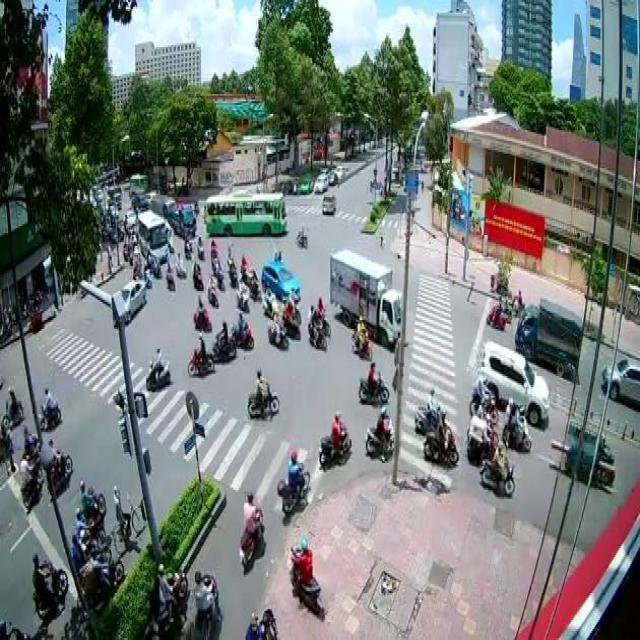bicycle: (111, 481, 145, 555)
bus: (203, 193, 286, 237), (136, 206, 169, 264)
car: (482, 338, 546, 430), (601, 351, 640, 403), (260, 260, 300, 306), (115, 278, 146, 322), (320, 190, 334, 215)
motorcycle: (564, 414, 614, 486), (149, 559, 186, 638), (30, 552, 69, 620), (288, 535, 321, 615), (277, 448, 310, 517), (317, 409, 352, 470), (238, 488, 263, 573), (423, 407, 458, 466), (480, 438, 515, 497), (363, 403, 395, 461), (193, 566, 218, 640), (245, 367, 278, 419), (466, 374, 499, 425), (502, 394, 530, 452), (17, 450, 43, 512), (413, 385, 444, 436), (357, 358, 389, 401), (186, 329, 213, 378), (144, 346, 171, 392), (212, 316, 236, 364), (349, 314, 372, 362), (37, 384, 62, 428), (230, 309, 255, 349), (307, 302, 327, 352), (266, 309, 290, 349), (1, 384, 22, 428), (192, 289, 212, 333), (314, 293, 331, 334), (234, 275, 249, 313), (206, 273, 220, 307), (191, 259, 203, 291), (296, 220, 308, 250), (174, 248, 186, 278), (164, 260, 174, 293), (214, 257, 223, 293), (196, 232, 203, 260)
truck: (329, 242, 404, 351), (514, 294, 581, 382)
